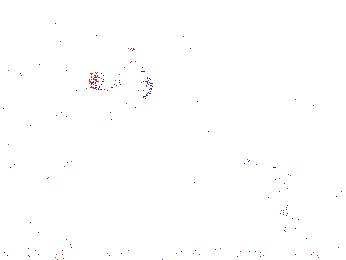flame jellyfish: (273, 173, 346, 233), (87, 58, 160, 111), (237, 156, 297, 206)
